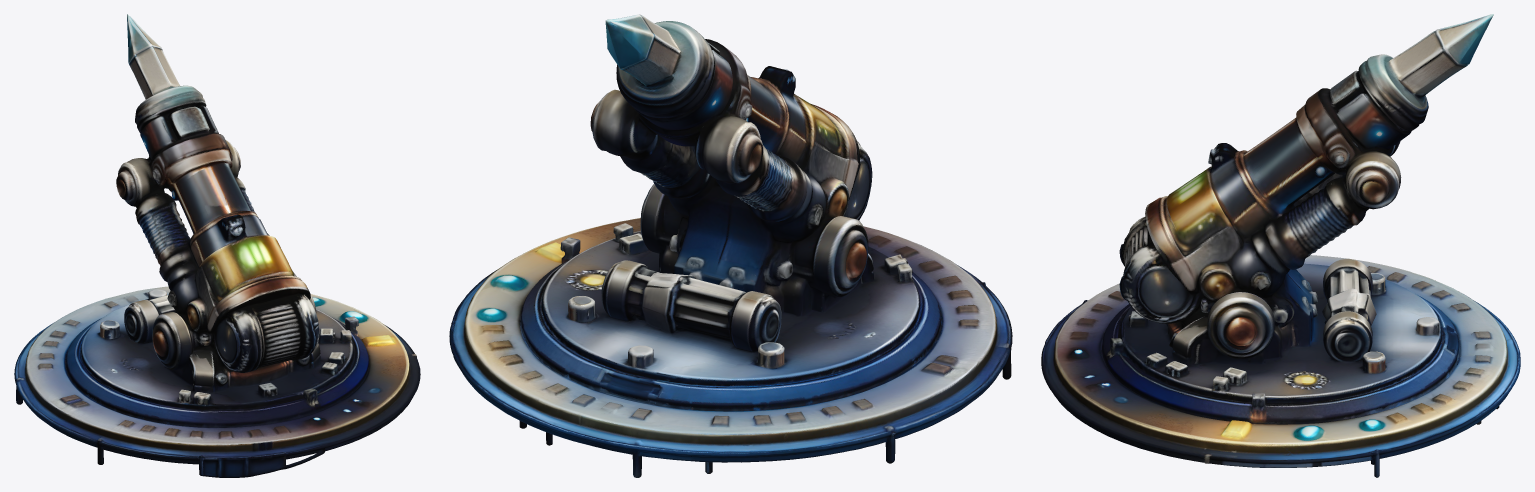
The model's file is ChiselUpdated.fbx.
3 renders of one model, left to right at view 1: azimuth 30°, elevation 25°; view 2: azimuth 150°, elevation 25°; view 3: azimuth 270°, elevation 25°, orthographic. The views are drawn at different scales.
Visible parts, largest first — view 1: tripo_node_0f943086; view 2: tripo_node_0f943086; view 3: tripo_node_0f943086.
Boxes of the visible parts, <box> form: tripo_node_0f943086: <box>14,14,420,477</box>; tripo_node_0f943086: <box>449,14,1012,477</box>; tripo_node_0f943086: <box>1041,14,1520,477</box>.
Size of the model in its own units: 0.9993 by 0.8606 by 0.9988.
Materials: 1 (1 with a texture image).
